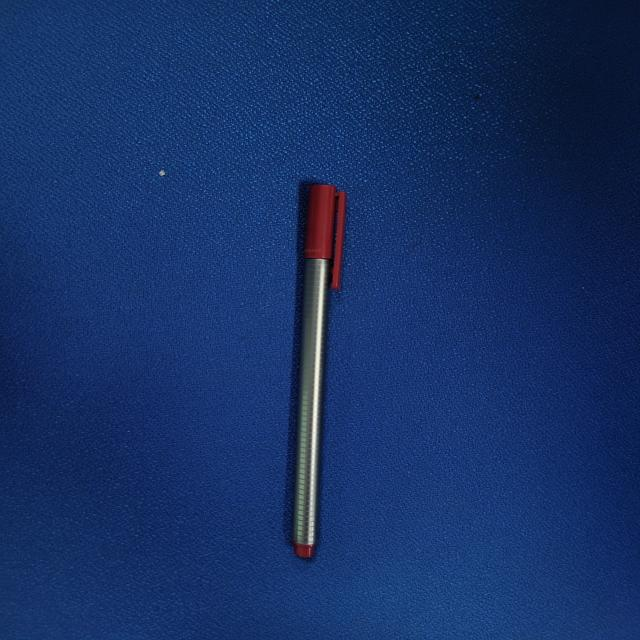caneta: (272, 167, 376, 570)
